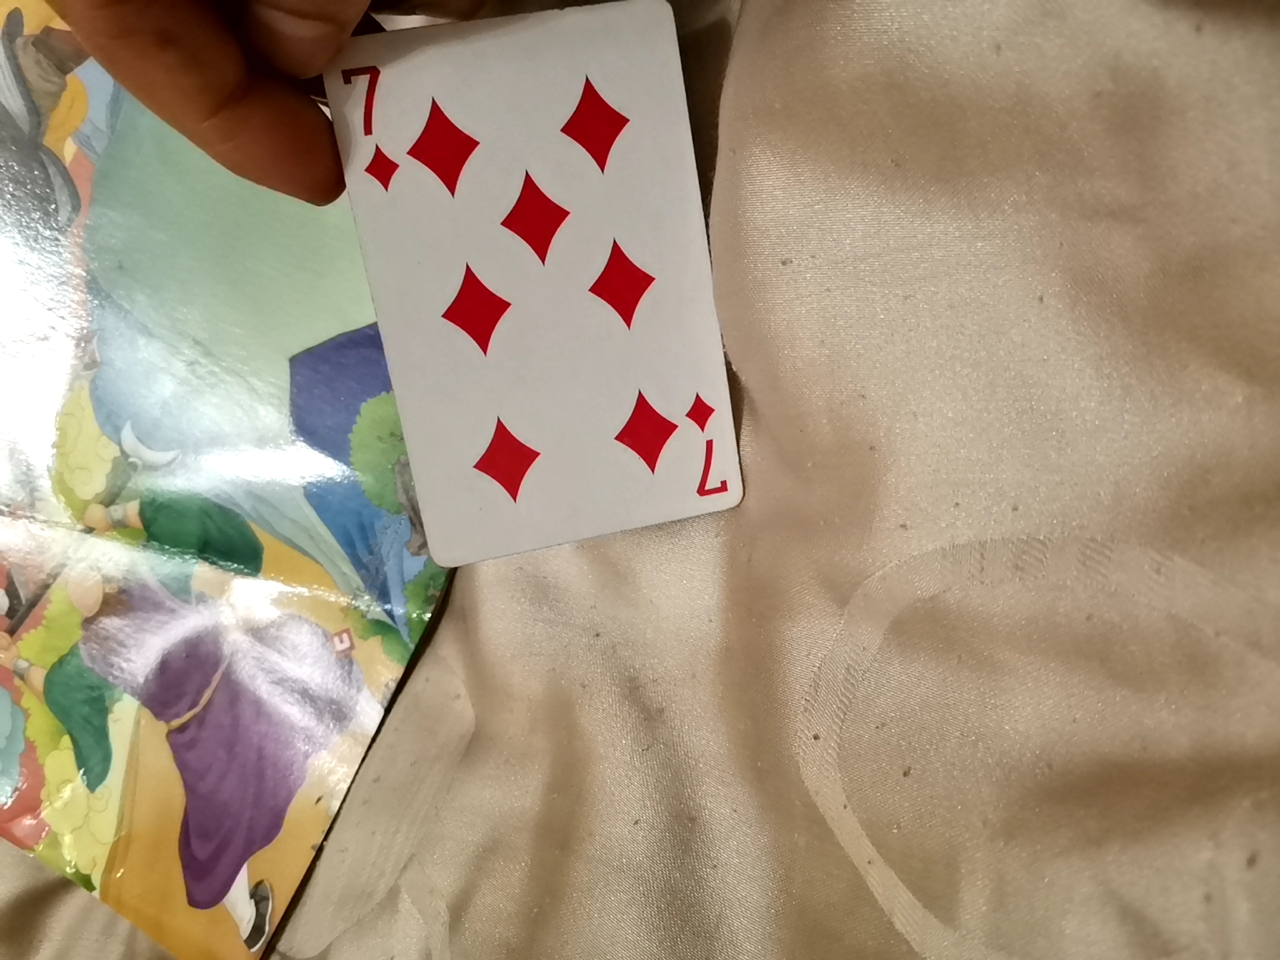fk 7: (347, 0, 734, 580)
